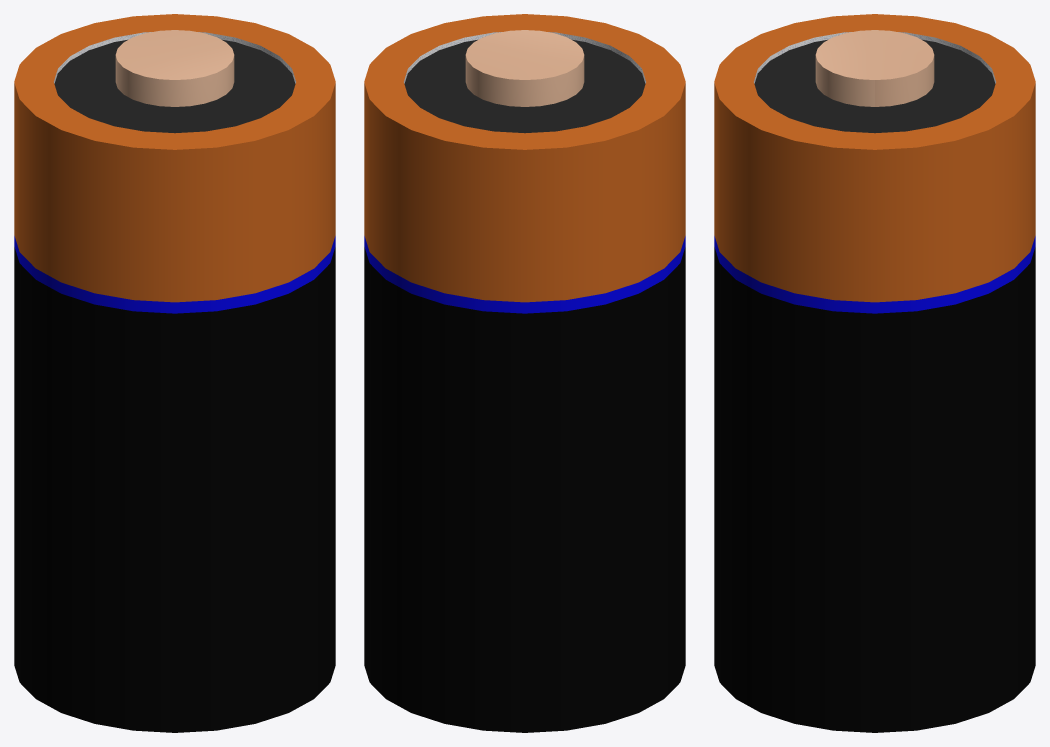
The model's file is battery.dae.
The picture shows the model from 3 angles, left to right: view 1: azimuth 30°, elevation 25°; view 2: azimuth 150°, elevation 25°; view 3: azimuth 270°, elevation 25°; orthographic projection.
Visible parts, largest first — view 1: CR123A_Battery (×6); view 2: CR123A_Battery (×6); view 3: CR123A_Battery (×6).
Boxes of the visible parts, x1=… form: CR123A_Battery (×6): x1=14, y1=14, x2=335, y2=732; CR123A_Battery (×6): x1=364, y1=14, x2=685, y2=732; CR123A_Battery (×6): x1=714, y1=14, x2=1035, y2=732.
Bounding box in the file's own units: 0.65 × 0.65 × 1.36.
